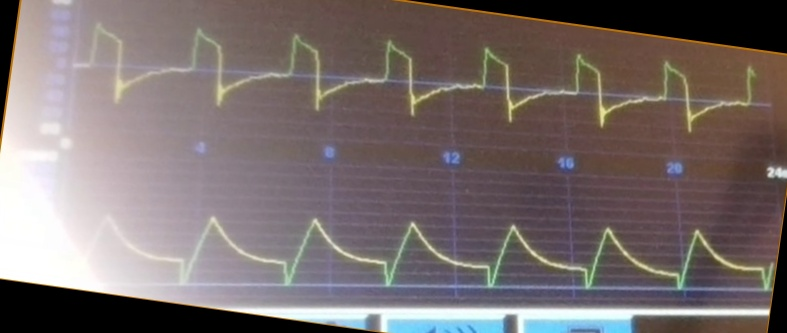Flow: (78, 25, 712, 141)
Leakage Volume: (83, 213, 773, 293)
